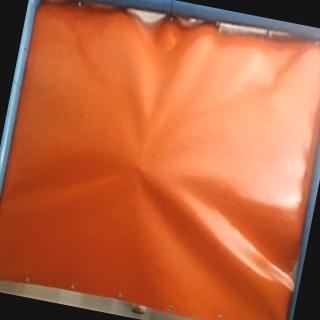Hit-hRxx: (130, 160, 147, 176)
